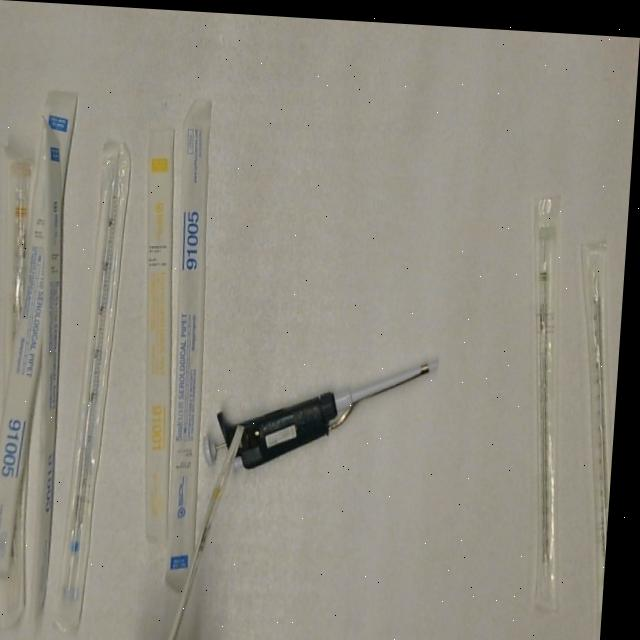Serelogical Pipet 1 mL - Sealed: (127, 121, 198, 548), (167, 415, 255, 640)
Serelogical Pipet 10 mL - Sealed: (0, 151, 44, 404)
Serelogical Pipet 2 mL - Sealed: (512, 184, 592, 611)
Serelogical Pipet 5 mL - Sealed: (0, 87, 81, 582), (62, 140, 137, 634), (17, 114, 87, 628), (157, 93, 228, 596)
Single Channel Pipettor: (205, 336, 456, 481)
